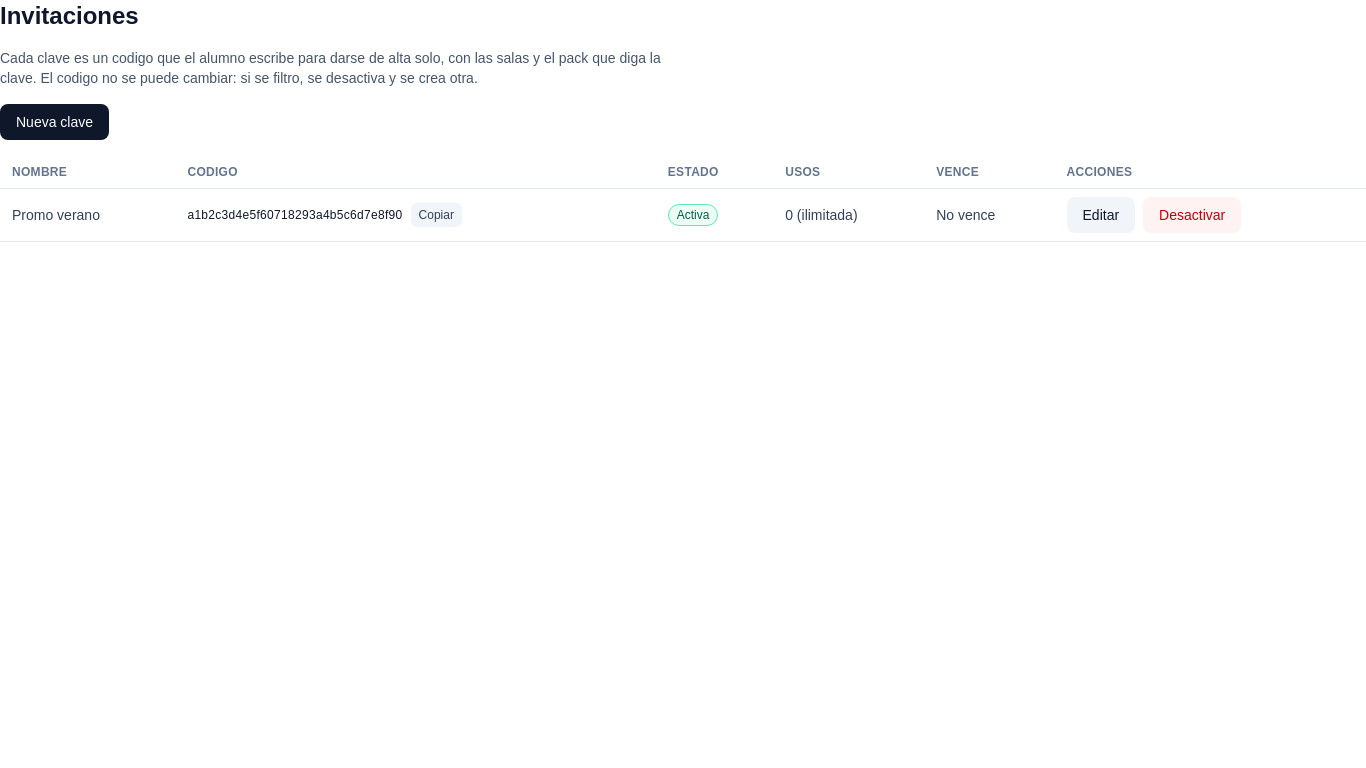
Test case: desactivar una clave › pregunta NOMBRANDO la clave antes de apagarla
This screenshot has width=1366, height=768.
Step 1. Click the button with aria-label "Desactivar Promo verano" → [1192, 215], box [1143,197,1241,233]
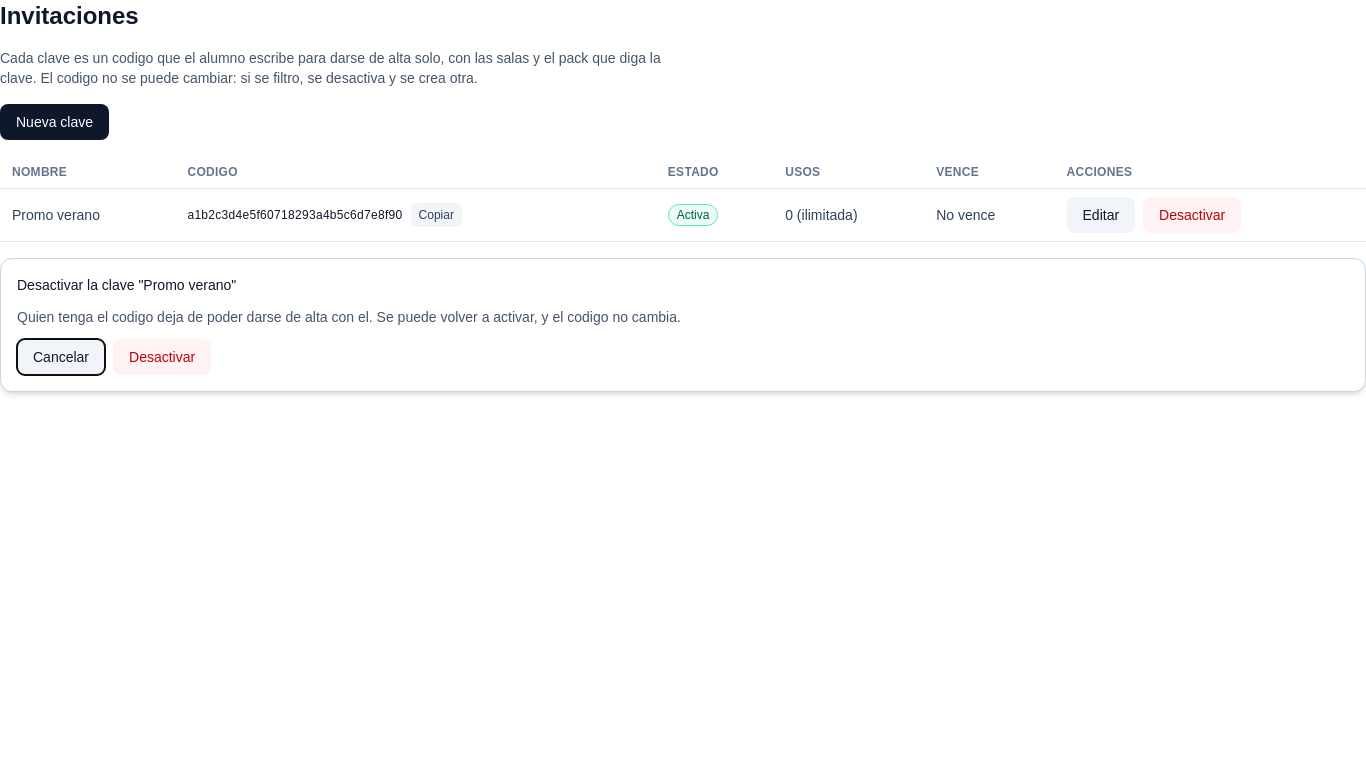
Now the dialog shows "Promo verano", box [17,277,236,293]
